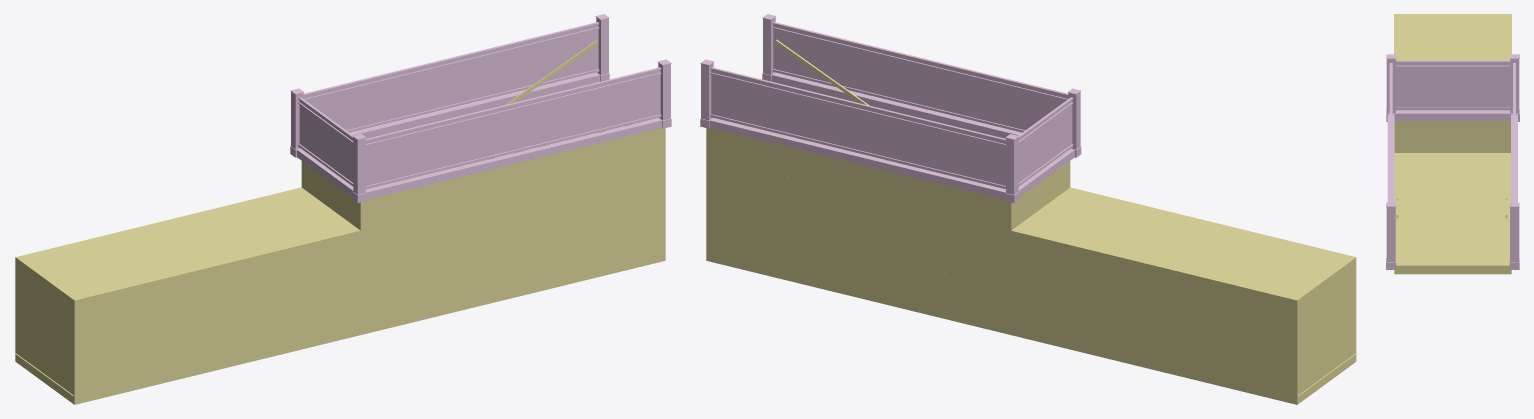
The model's file is SubwayEntrance.fbx.
3 renders of one model, left to right at view 1: azimuth 30°, elevation 25°; view 2: azimuth 150°, elevation 25°; view 3: azimuth 270°, elevation 25°, orthographic.
Visible parts, largest first — view 1: Subway, Barrier2_Low, Barrier_Low, Pillar_Low; view 2: Subway, Barrier2_Low, Barrier_Low, Pillar_Low; view 3: Subway, Barrier2_Low, Barrier_Low, Pillar_Low.
Boxes of the visible parts, x1,y1,x2,y2 form: Subway: (14,40,665,404); Barrier2_Low: (299,24,660,185); Barrier_Low: (297,22,661,199); Pillar_Low: (290,14,671,202); Subway: (706,39,1356,404); Barrier2_Low: (711,24,1072,185); Barrier_Low: (710,22,1074,199); Pillar_Low: (700,14,1081,202); Subway: (1394,14,1511,274); Barrier2_Low: (1396,62,1510,107); Barrier_Low: (1387,60,1517,202); Pillar_Low: (1386,54,1519,269).
Size of the model in its own units: 23.85 by 7.68 by 4.67.
